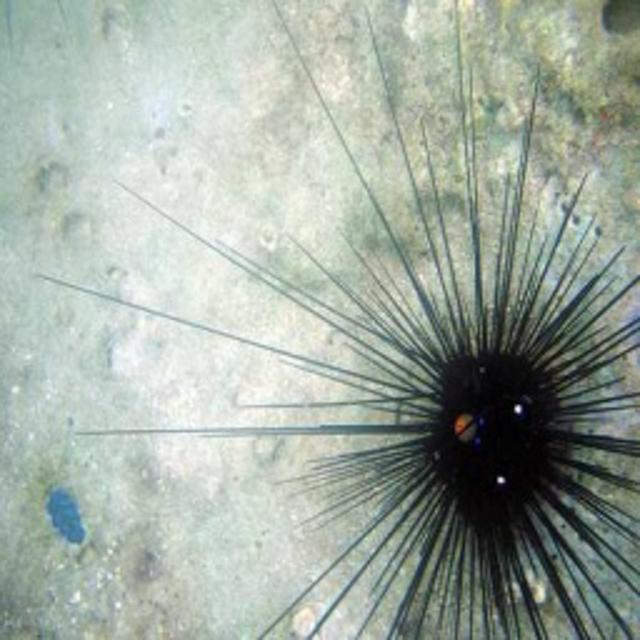Urchin: (108, 10, 640, 640)
